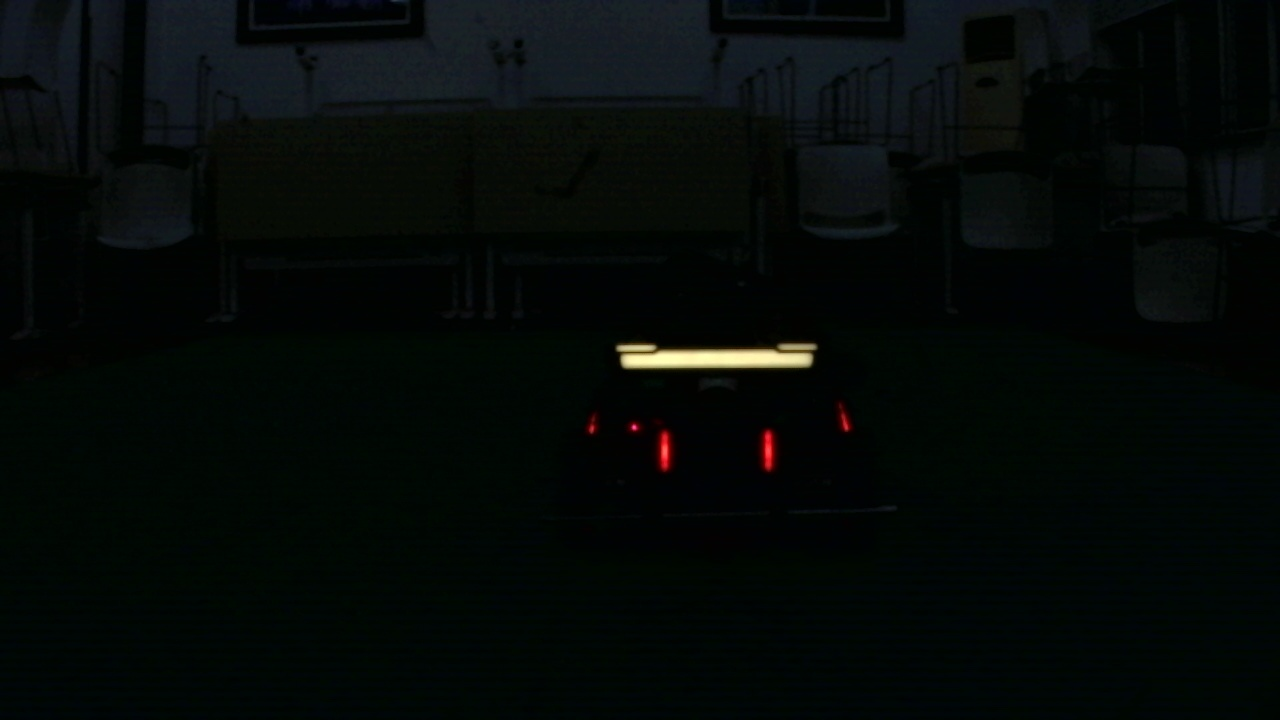lamp: (656, 430, 672, 475), (759, 433, 776, 473)
pair1: (658, 427, 774, 472)
